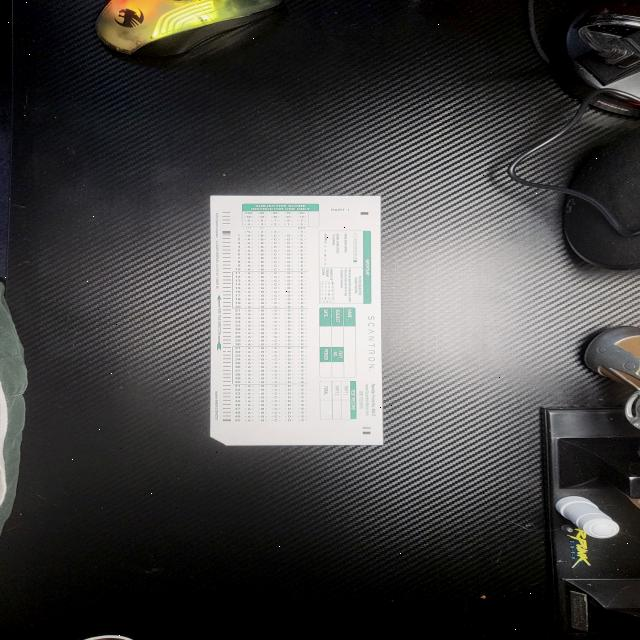scantron: (210, 196, 384, 446)
